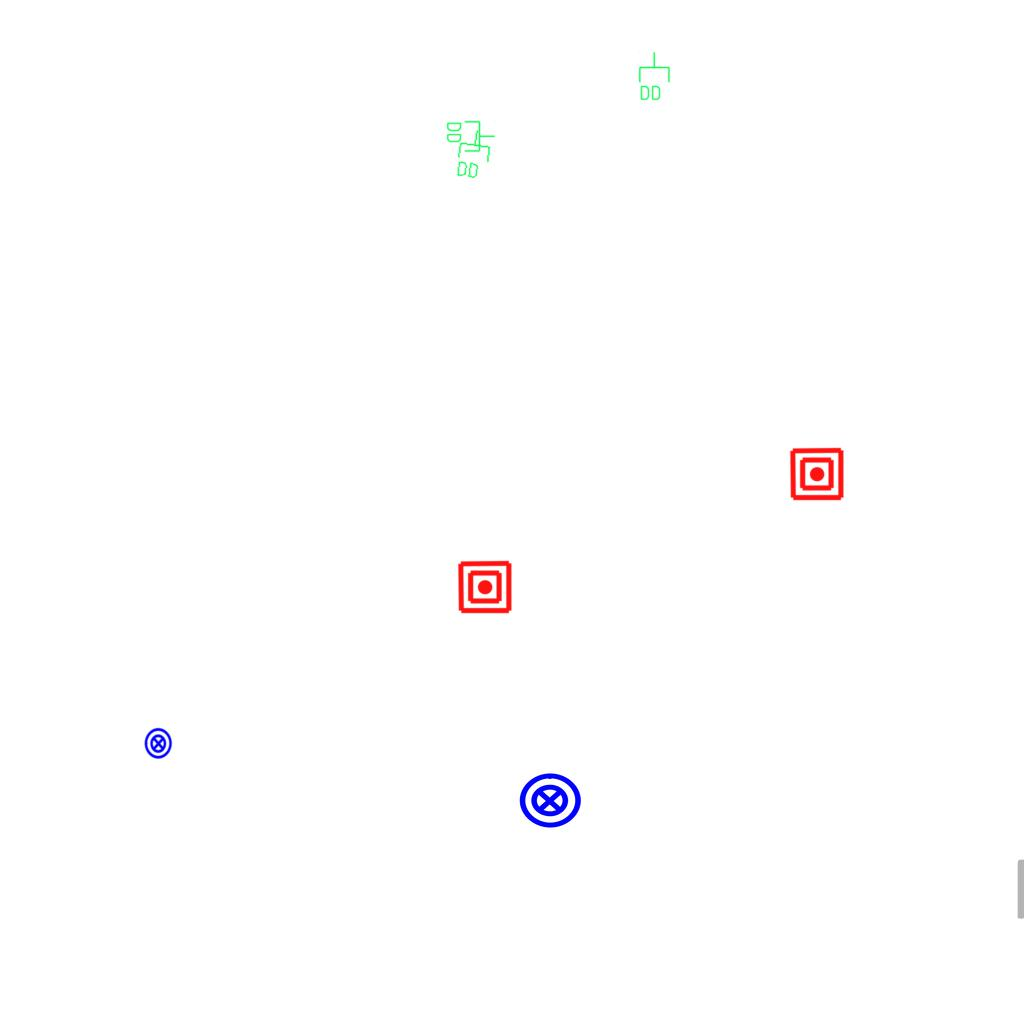Datenanschluss_zweifach: (453, 126, 494, 182), (445, 119, 496, 153), (637, 51, 671, 102)
NAM-Nichtautomatischer_Melder: (457, 559, 513, 615), (789, 446, 845, 502)
Taster_beleuchtet: (517, 768, 583, 834), (142, 727, 175, 760)
